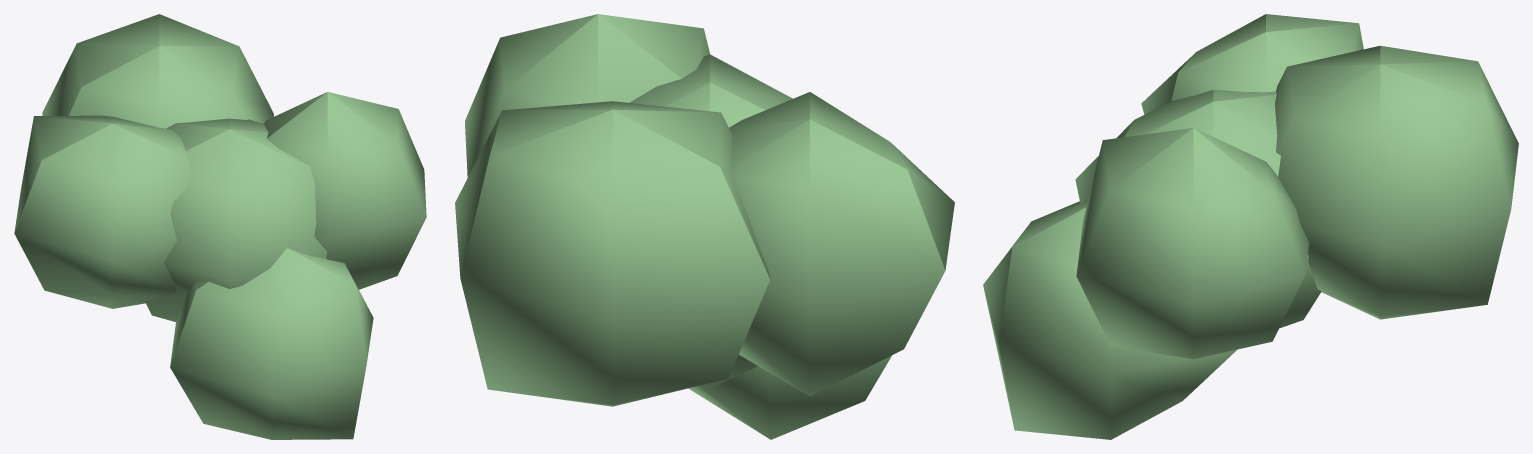
The model's file is bush_round.glb.
3 renders of one model, left to right at view 1: azimuth 30°, elevation 25°; view 2: azimuth 150°, elevation 25°; view 3: azimuth 270°, elevation 25°, orthographic. The views are drawn at different scales.
Parts seen in each view (by area): view 1: bush-round; view 2: bush-round; view 3: bush-round.
Boxes of the visible parts, bbox=[...] form: bush-round: bbox=[14, 14, 426, 439]; bush-round: bbox=[455, 14, 954, 439]; bush-round: bbox=[983, 14, 1518, 439].
Size of the model in its own units: 1.24 by 0.9406 by 1.28.
